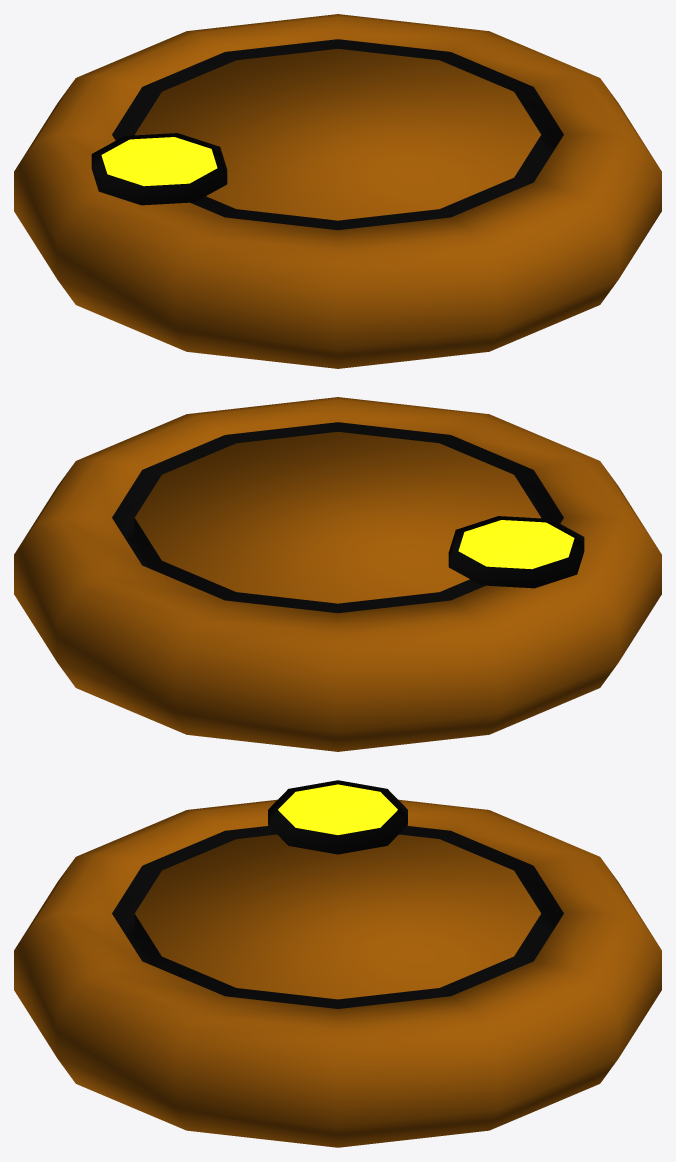
Rendered from watch.gltf.
The picture shows the model from 3 angles, top to bottom: view 1: azimuth 30°, elevation 25°; view 2: azimuth 150°, elevation 25°; view 3: azimuth 270°, elevation 25°; orthographic projection.
Visible parts, largest first — view 1: Circle, Circle.001; view 2: Circle, Circle.001; view 3: Circle, Circle.001.
Boxes of the visible parts, left/top/right/bottom form: Circle: left=14, top=14, right=661, bottom=368; Circle.001: left=91, top=133, right=227, bottom=205; Circle: left=14, top=397, right=661, bottom=751; Circle.001: left=448, top=516, right=584, bottom=588; Circle: left=14, top=799, right=661, bottom=1147; Circle.001: left=268, top=780, right=407, bottom=854.
Size of the model in its own units: 0.2251 by 0.053 by 0.2251.
